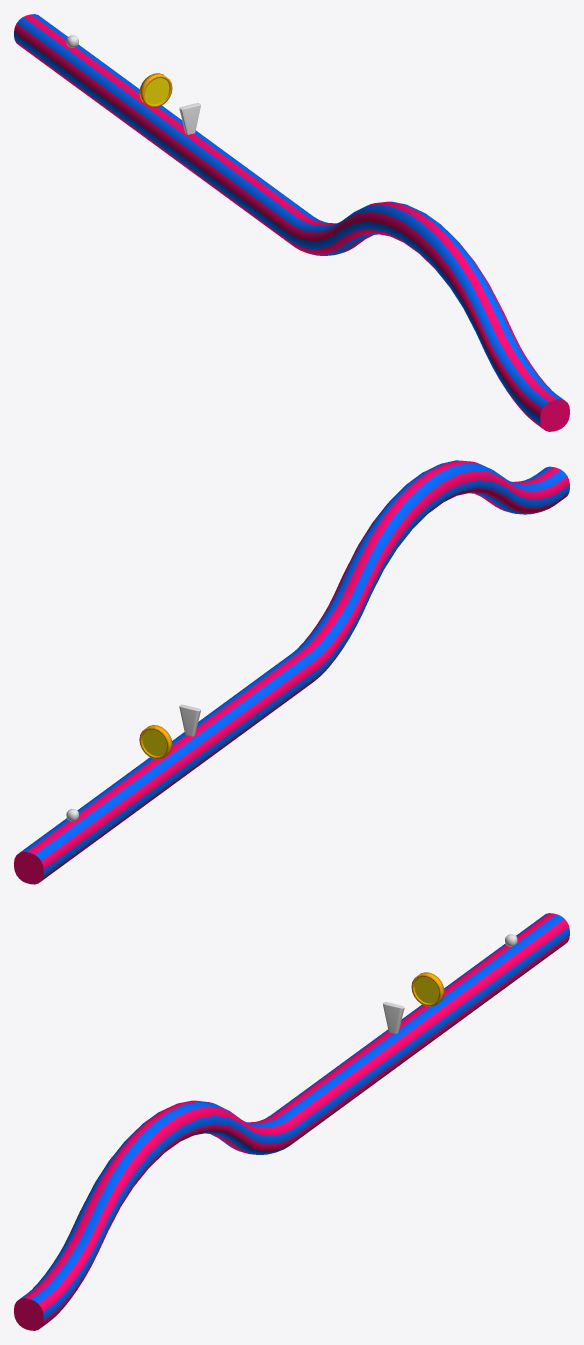
The model's file is ballRideAround.fbx.
3 views of the same model, one above another, from view 1: azimuth 30°, elevation 25°; view 2: azimuth 150°, elevation 25°; view 3: azimuth 330°, elevation 25° (orthographic).
Parts seen in each view (by area): view 1: Cube.001, Cube, Куб.002; view 2: Cube.001, Cube, Куб.002; view 3: Cube.001, Cube, Куб.002.
Boxes of the visible parts, left/top/right/bottom form: Cube.001: left=277, top=201, right=569, bottom=431; Cube: left=14, top=14, right=300, bottom=236; Куб.002: left=139, top=73, right=172, bottom=107; Cube.001: left=283, top=460, right=569, bottom=688; Cube: left=14, top=659, right=306, bottom=884; Куб.002: left=139, top=725, right=172, bottom=759; Cube.001: left=14, top=1100, right=306, bottom=1330; Cube: left=283, top=913, right=569, bottom=1135; Куб.002: left=411, top=972, right=444, bottom=1006.
Size of the model in its own units: 200 by 753 by 6119.
